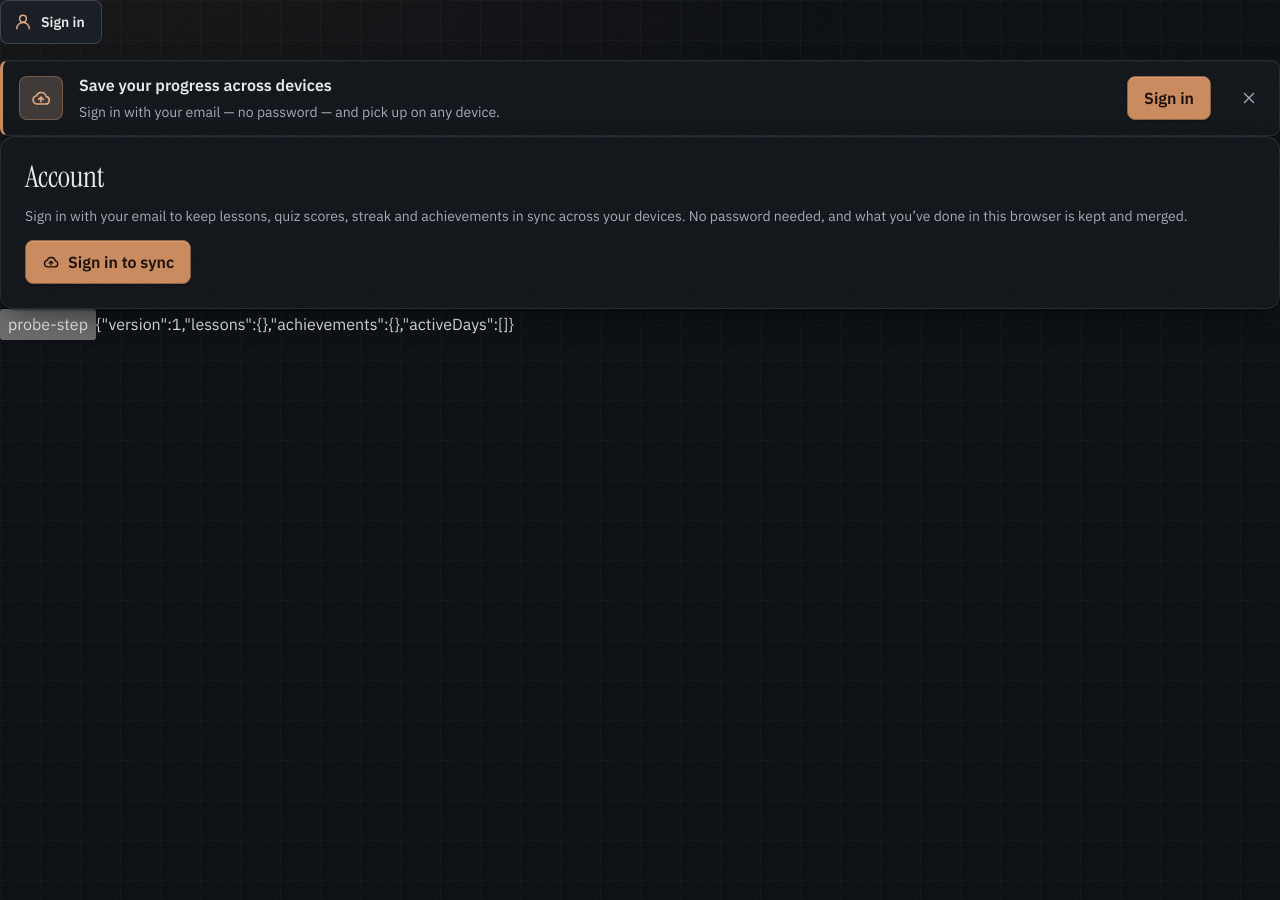
Scenario: accounts › explains a failed send kindly ({"name":"AuthRetryableFetchError","status":0,"message":"Failed to fetch"})
The image size is (1280, 900).
Click the 1st button "Sign in" at x=51, y=22, box top-left (0, 0), bottom-right (102, 44)
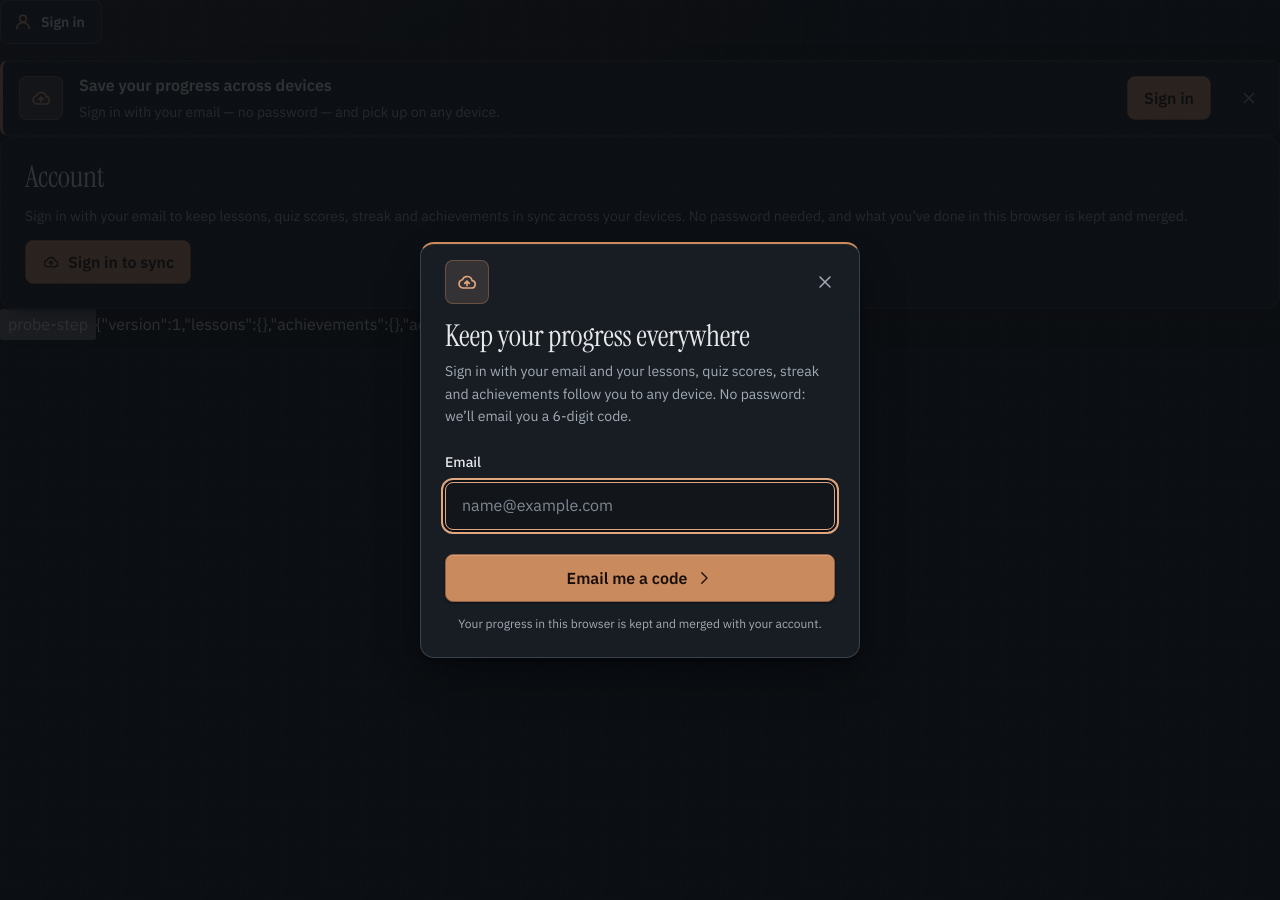
Type "ada@example.com" into the field labelled "Email" at x=640, y=506, box top-left (445, 482), bottom-right (835, 530)
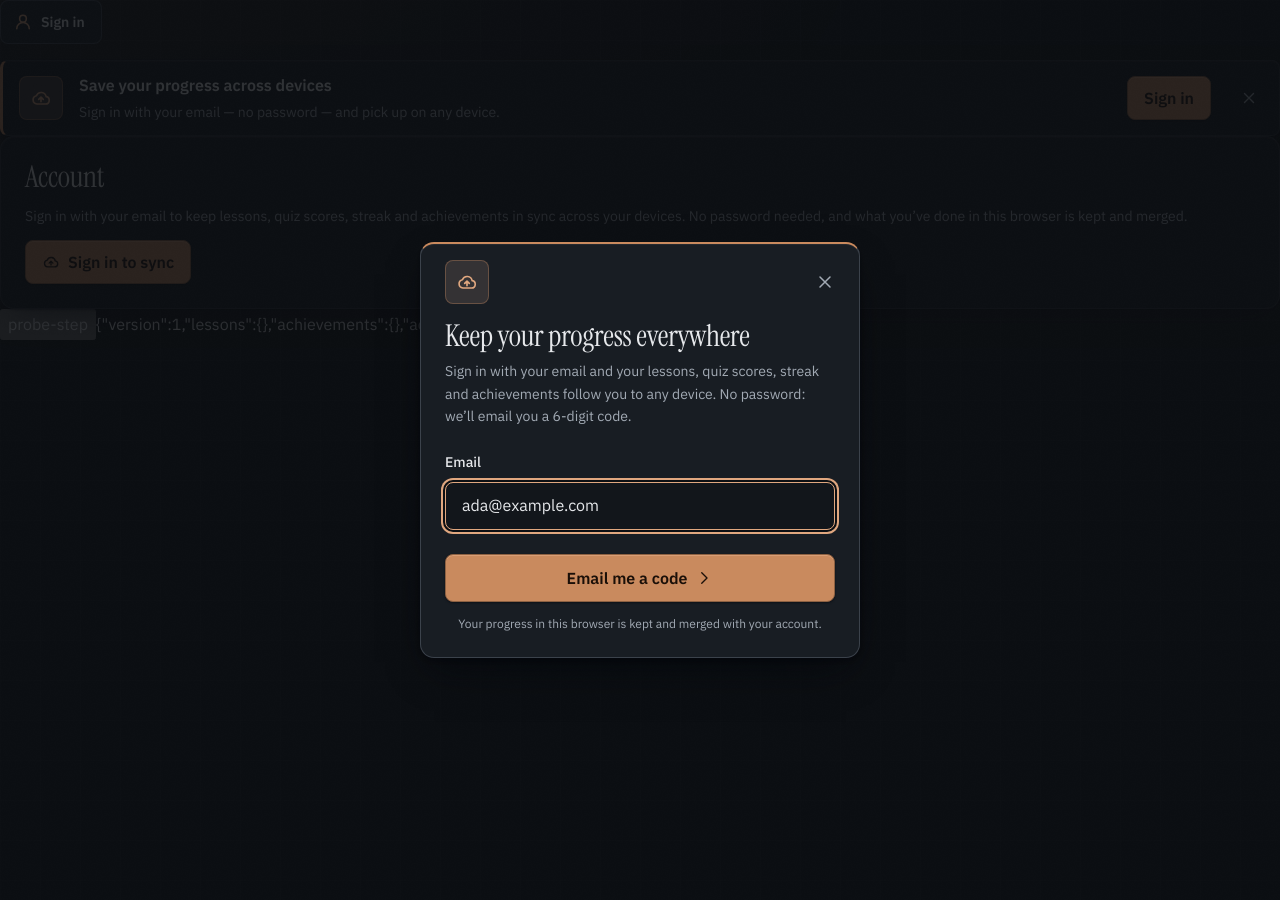
Click the button "Email me a code" at x=640, y=578, box top-left (445, 554), bottom-right (835, 602)
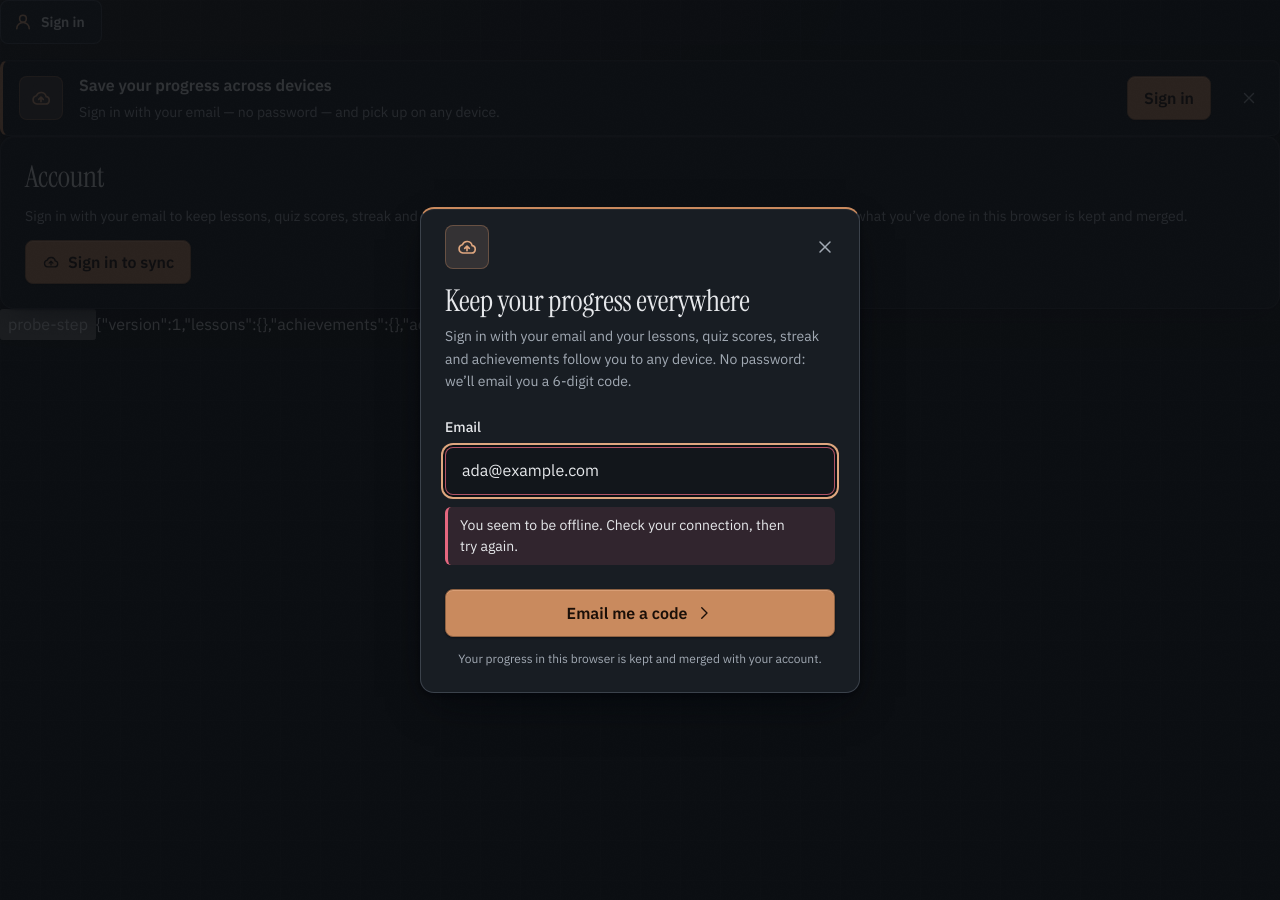
expect the heading "Keep your progress everywhere" is shown: met, box top-left (445, 281), bottom-right (750, 320)
expect the message shows "offline": met, box top-left (460, 516), bottom-right (785, 555)
